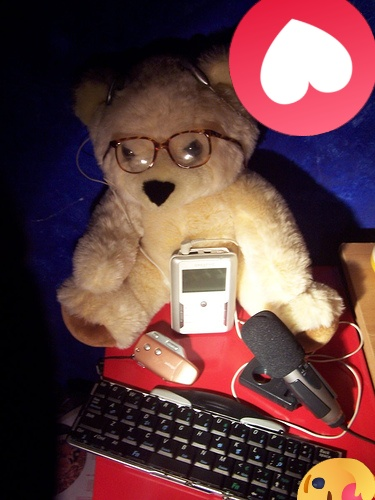care: (297, 458, 375, 500)
love: (229, 0, 375, 136)
